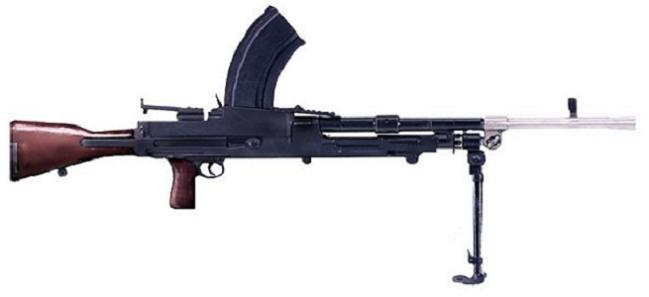rifle: (5, 17, 641, 280)
